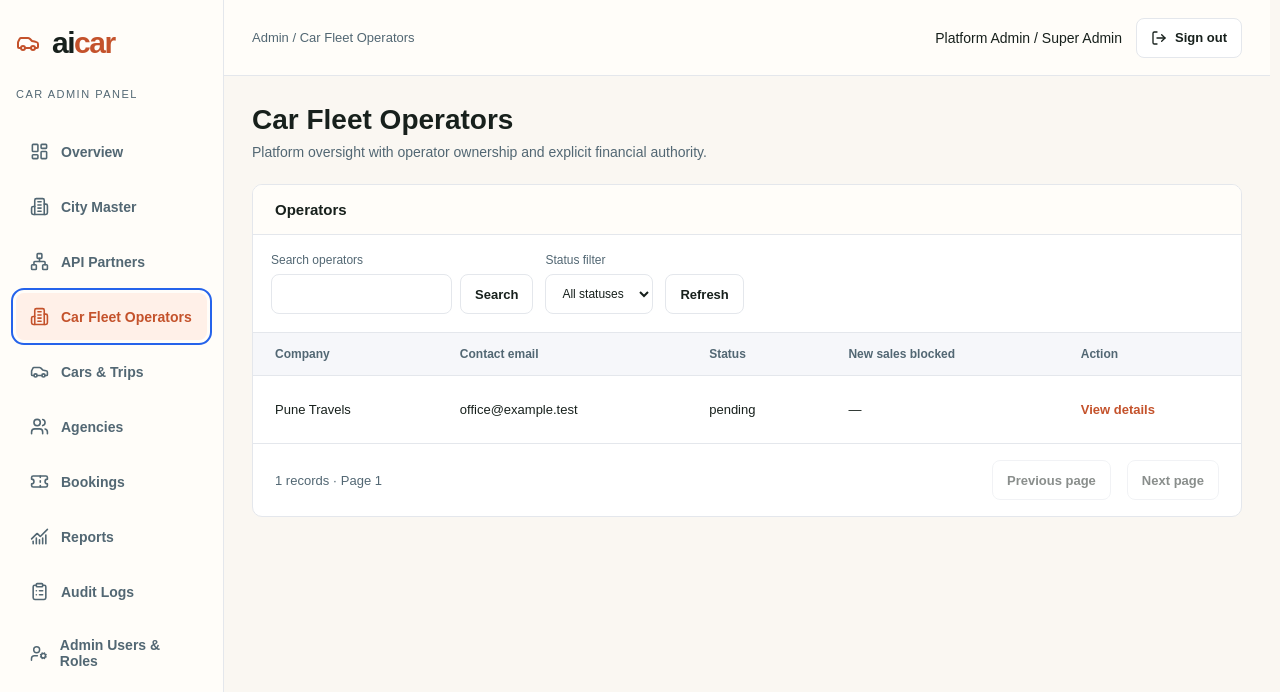
Test case: opens the separate admin app, reviews company details and confirms status changes
The width and height of the screenshot is (1280, 692).
Earlier steps of the test are not shown.
Click the button "View details" at (1118,410), box [1081,396,1155,423]
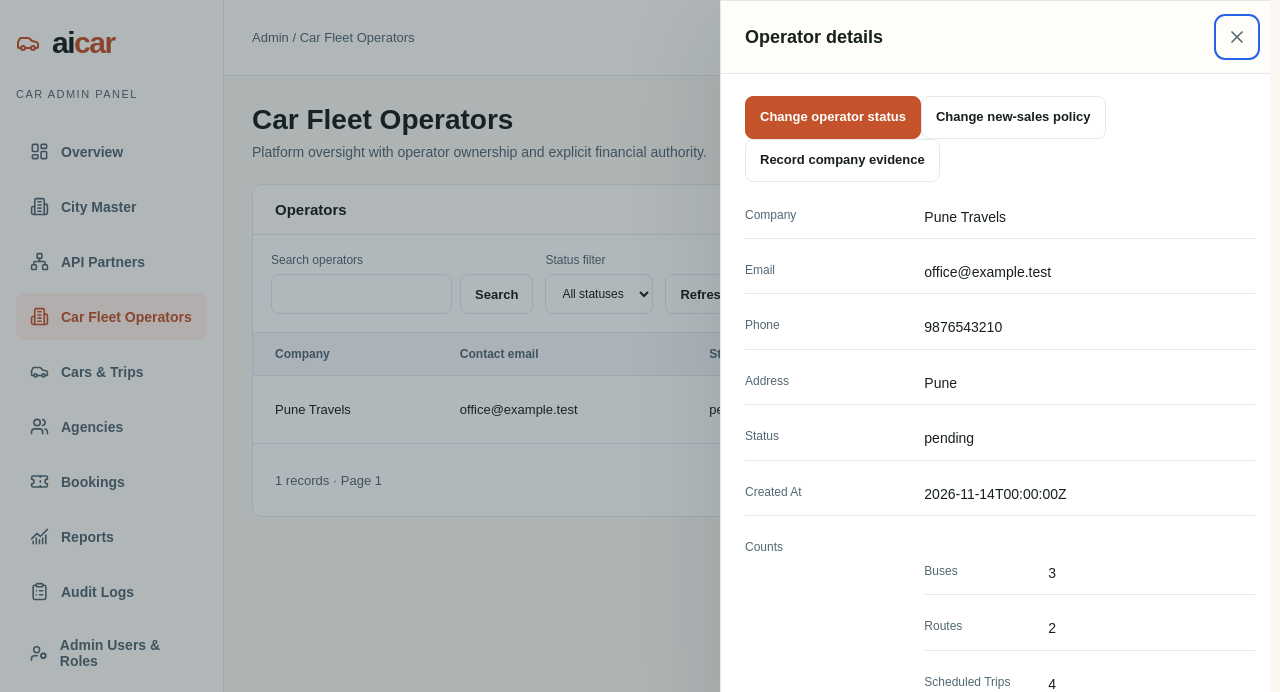
expect the text "Pune Travels" is shown: met, box [924,209,1006,225]
expect the text "9876543210" is shown: met, box [924,319,1002,335]
expect the text "Scheduled trips" is shown: met, box [924,675,1010,689]
Click the button "Change operator status" at (833,117), box [745,96,921,139]
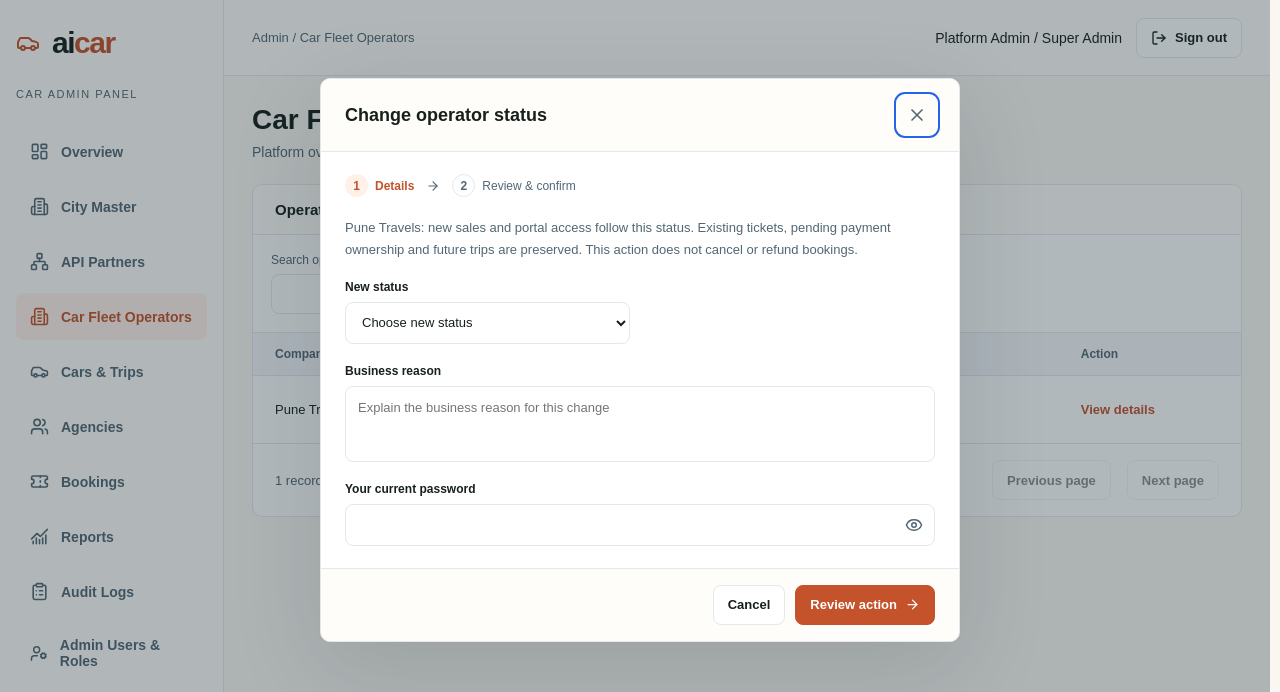
Select "approved" in the dropdown labelled "New status" at (488,323), box [345,302,630,344]
Type "Company evidence reviewed and approved" into the text box labelled "Business reason" at (640,424), box [345,386,935,462]
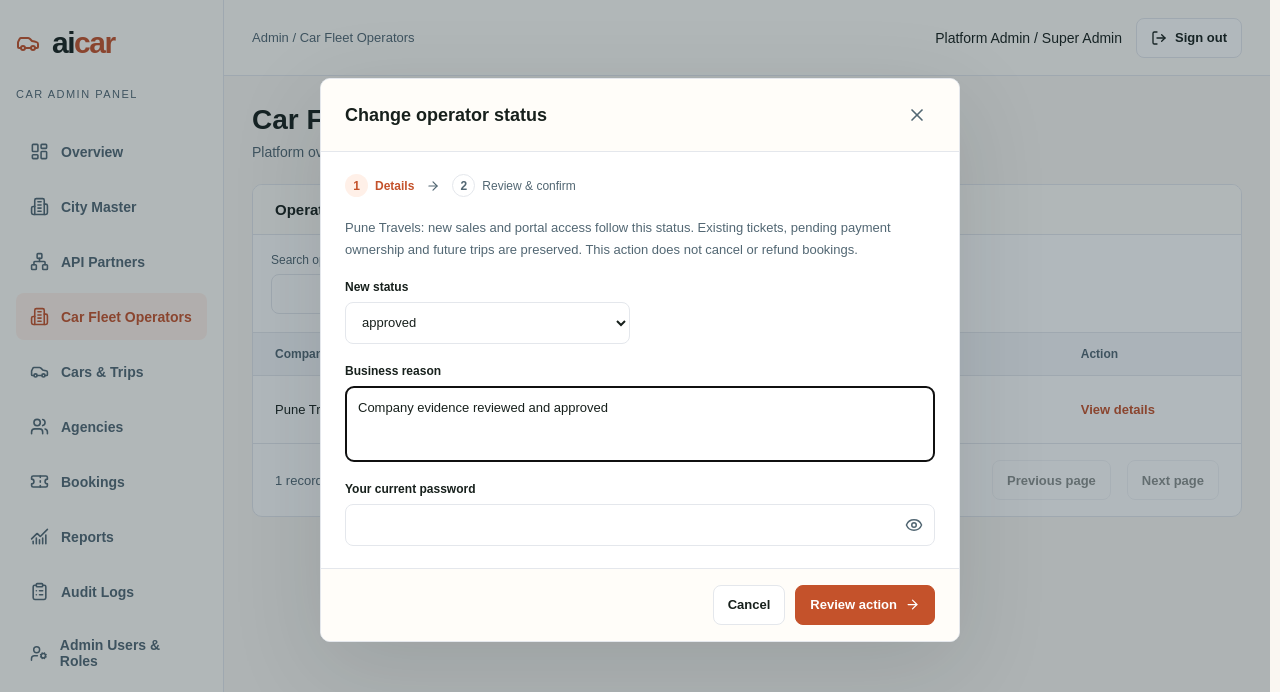
Type "example-password-123" into the password field labelled "Your current password" at (640,525), box [345,504,935,546]
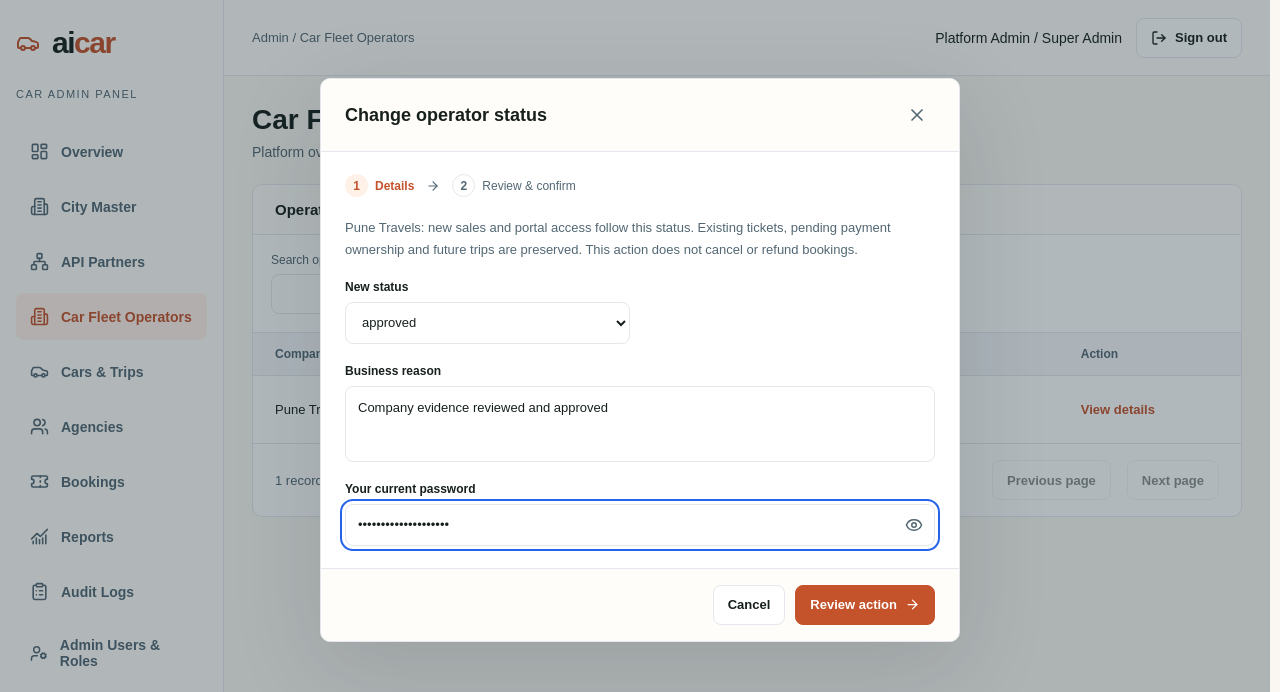
Click the button "Review action" at (865,605), box [795,585,935,625]
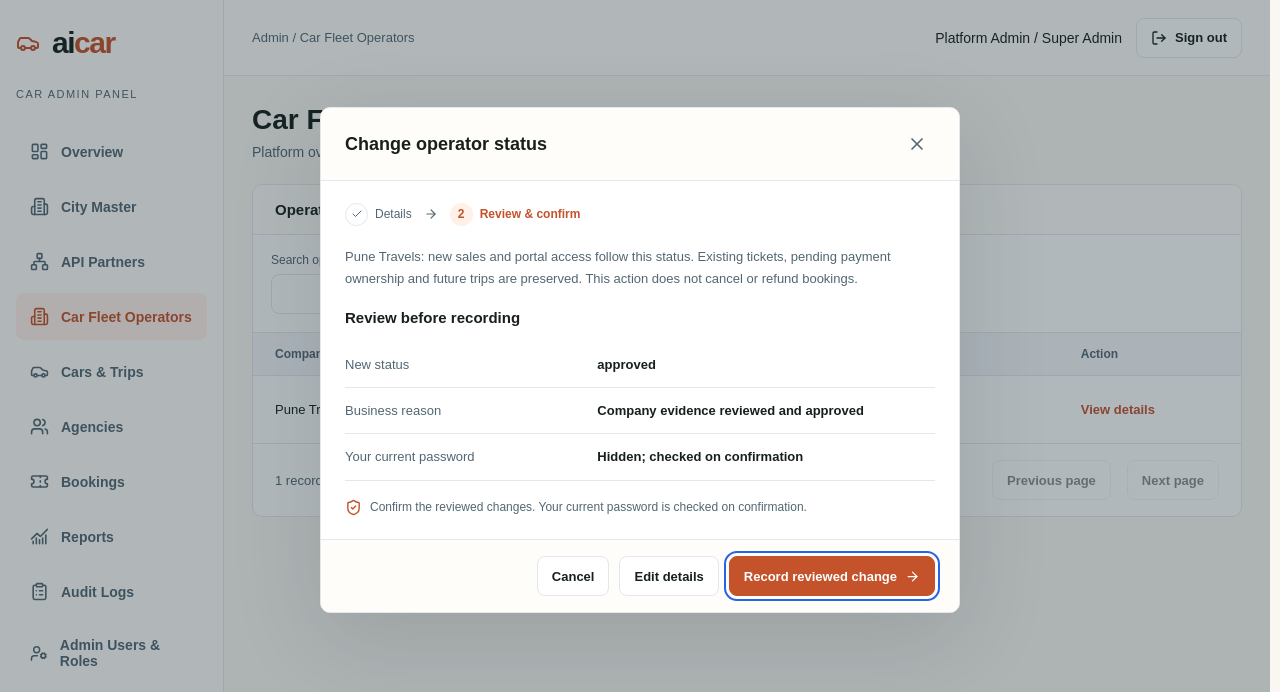
Click the button "Record reviewed change" at (832,576), box [729,556,935,596]
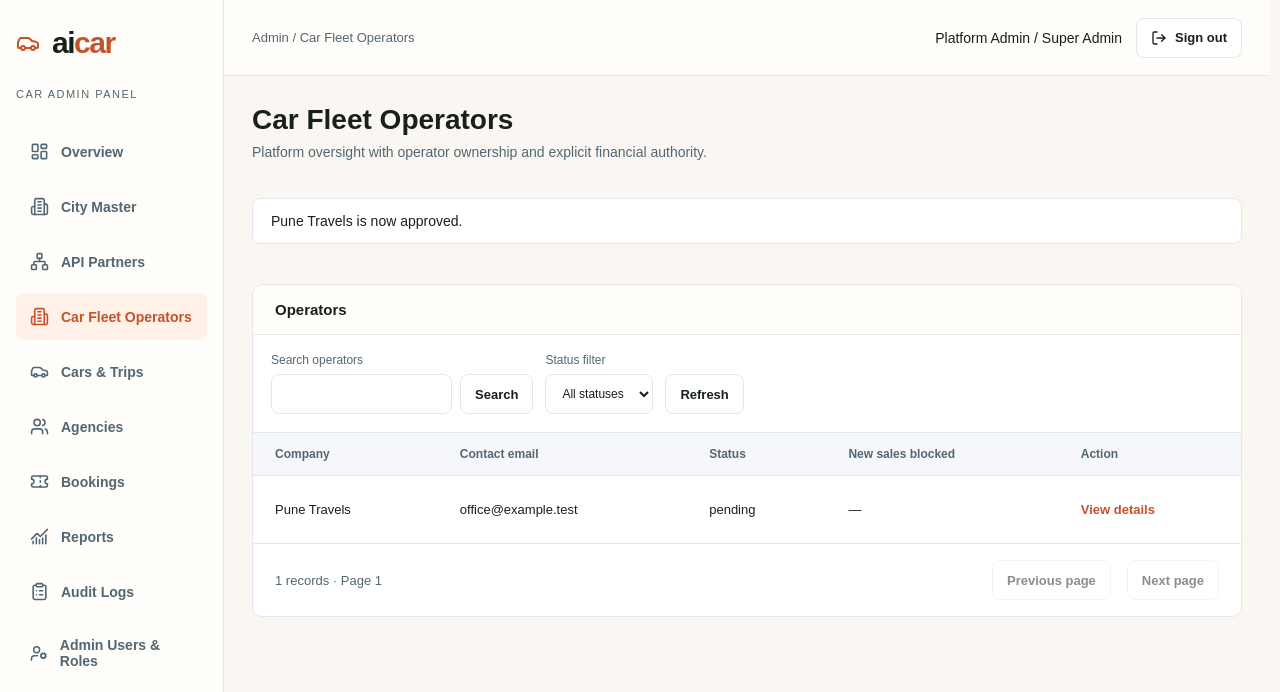
expect the text "Pune Travels is now approved." is shown: met, box [252,198,1242,244]
